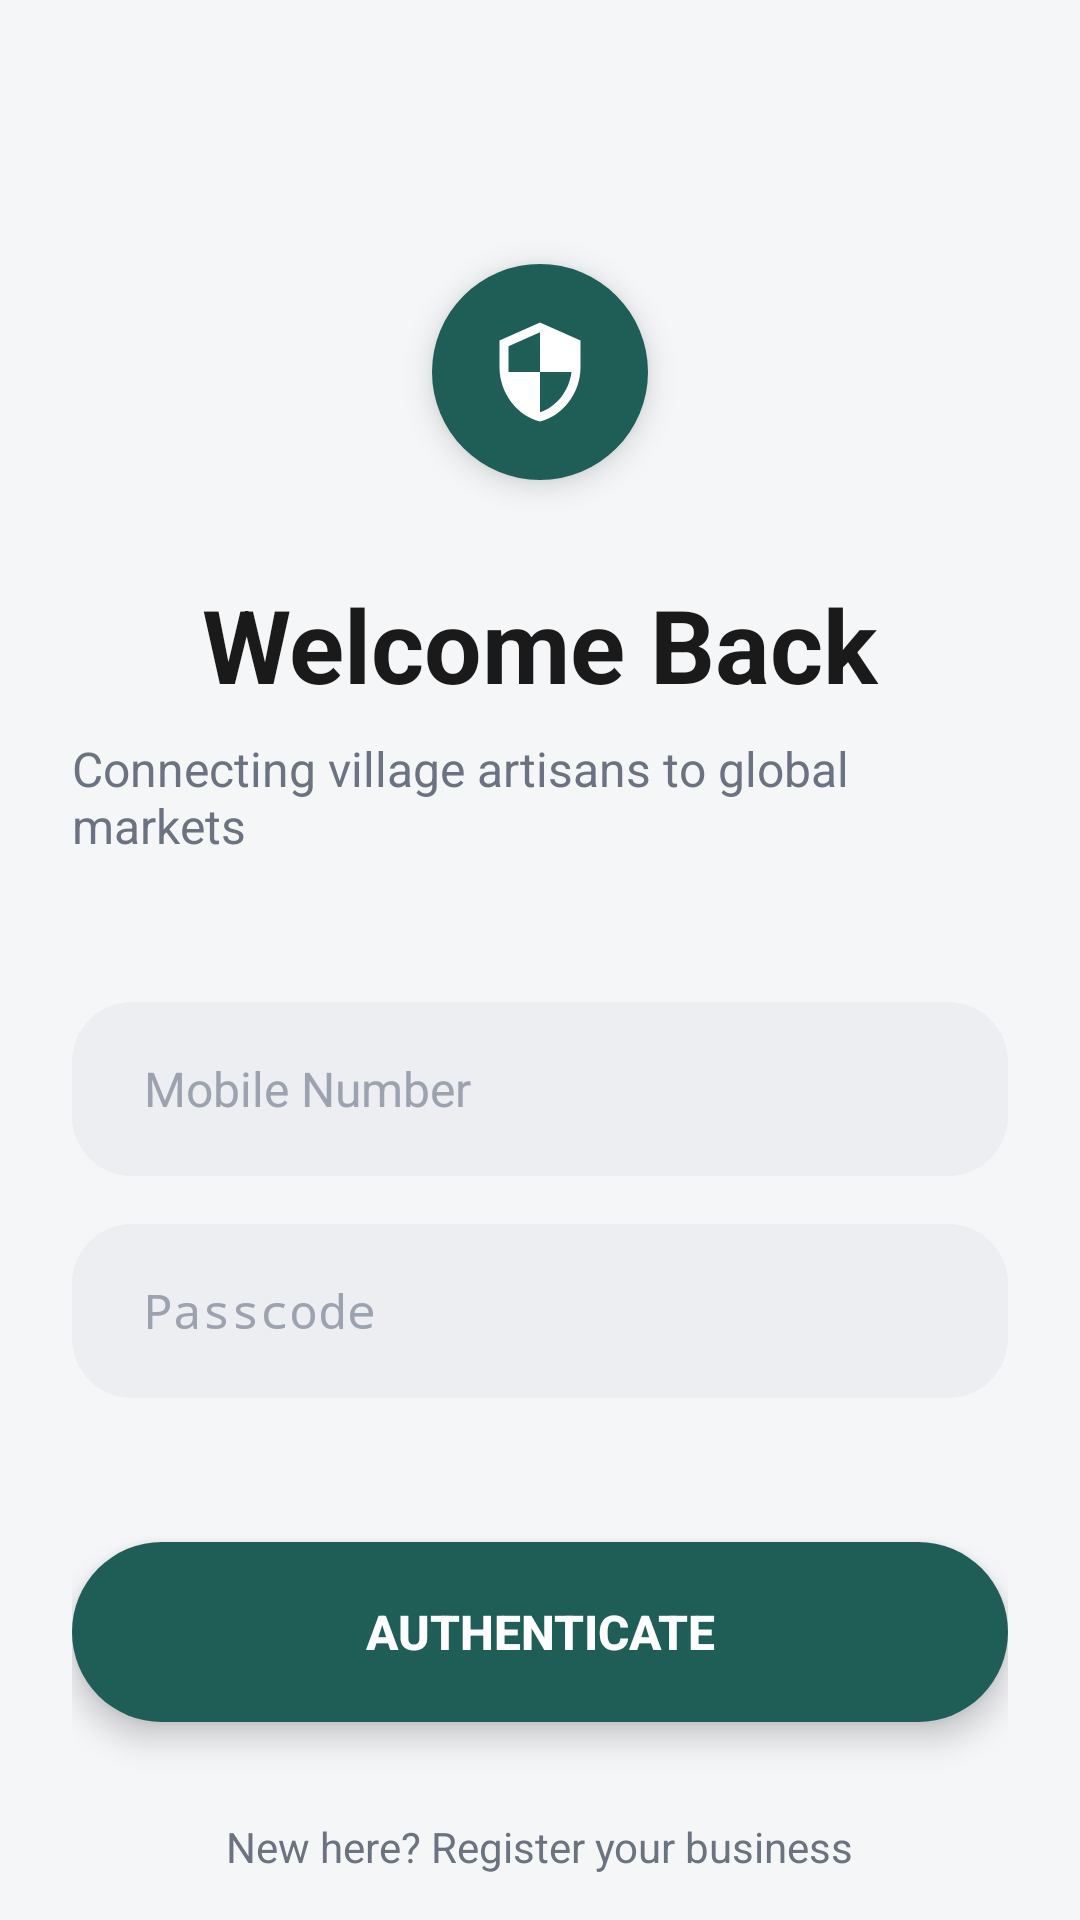

Where icons sit on this 1080w x 1920h app screen, as bbox=(x1, y1, x2, y2):
App Icon: bbox=(499, 322, 581, 422)
